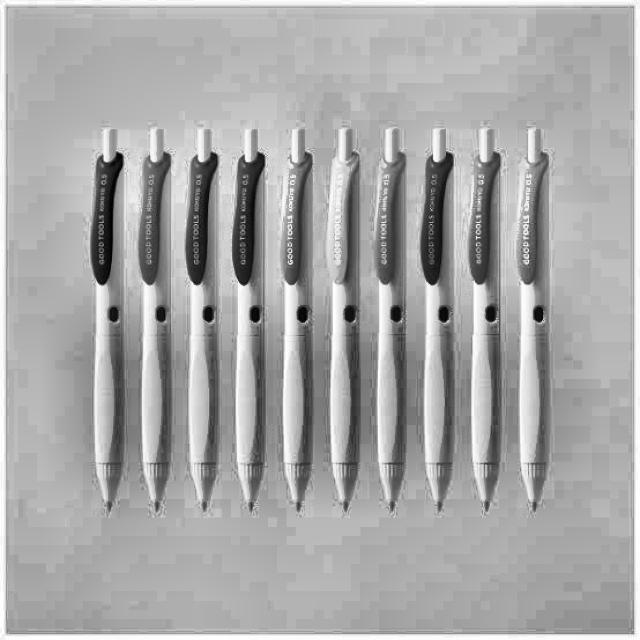Pen: (80, 118, 128, 517), (461, 124, 502, 521), (367, 124, 408, 518), (177, 121, 218, 512), (514, 124, 555, 514), (279, 121, 319, 518), (229, 125, 270, 512), (133, 122, 172, 520), (324, 120, 361, 513), (421, 127, 454, 516)
